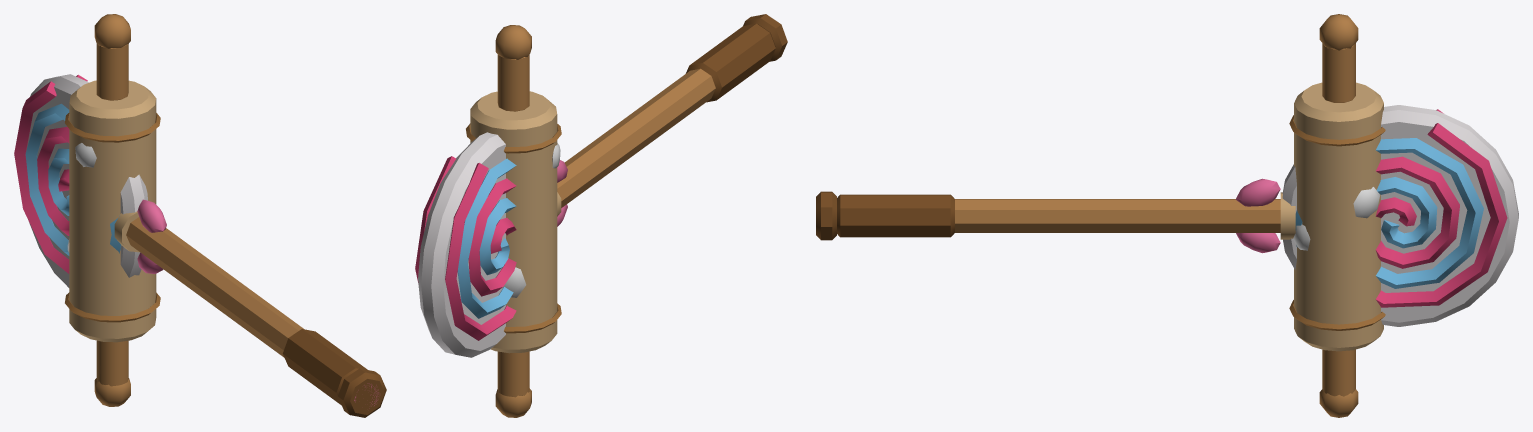
File: 2026-11-22_pioche.glb
The picture shows the model from 3 angles, left to right: view 1: azimuth 30°, elevation 25°; view 2: azimuth 150°, elevation 25°; view 3: azimuth 270°, elevation 25°; orthographic projection. The views are drawn at different scales.
Parts seen in each view (by area): view 1: pioche_rouleau_patissier, pioche_sucette_tourbillon; view 2: pioche_rouleau_patissier, pioche_sucette_tourbillon; view 3: pioche_rouleau_patissier, pioche_sucette_tourbillon.
Part boxes in pixels (bbox=[...]): pioche_rouleau_patissier: bbox=[65, 14, 386, 417]; pioche_sucette_tourbillon: bbox=[14, 74, 378, 408]; pioche_rouleau_patissier: bbox=[466, 14, 787, 417]; pioche_sucette_tourbillon: bbox=[415, 132, 567, 357]; pioche_rouleau_patissier: bbox=[816, 14, 1385, 417]; pioche_sucette_tourbillon: bbox=[1235, 105, 1518, 326].
Size of the model in its own units: 0.166 by 0.738 by 1.17.
